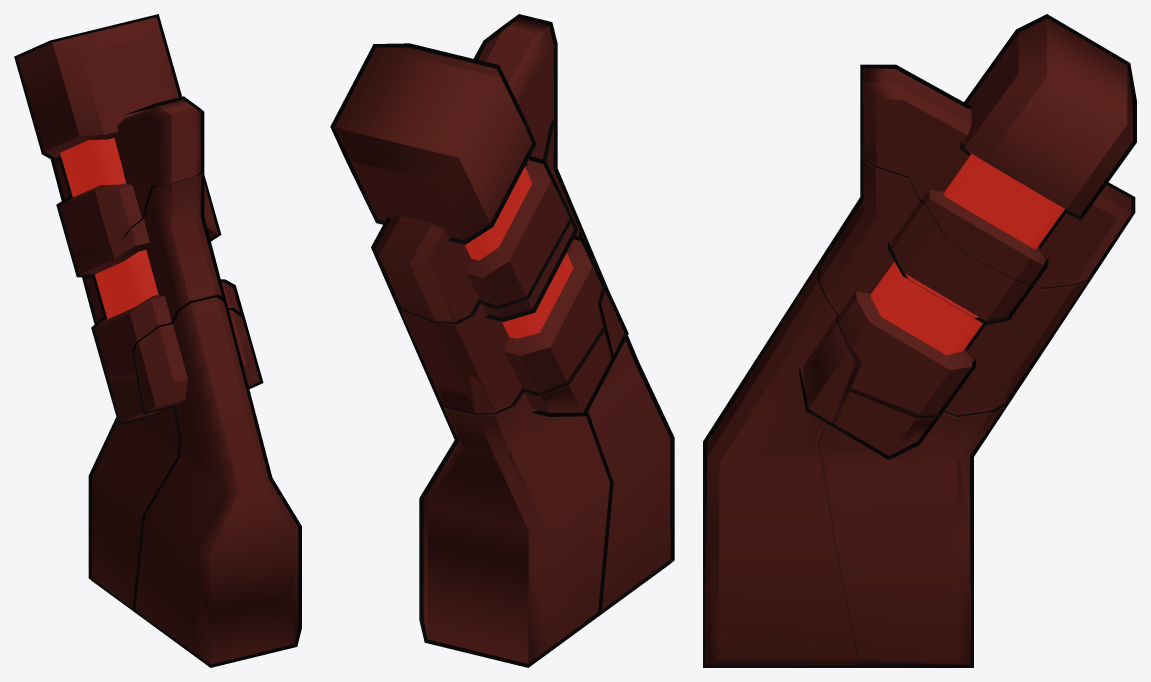
File: Obstacle3.fbx
The picture shows the model from 3 angles, left to right: view 1: azimuth 30°, elevation 25°; view 2: azimuth 150°, elevation 25°; view 3: azimuth 270°, elevation 25°; orthographic projection. The views are drawn at different scales.
Parts seen in each view (by area): view 1: Cube, Fragment.003, Fragment.001, Fragment.002, Fragment; view 2: Cube, Fragment.001, Fragment, Fragment.002, Fragment.003; view 3: Cube, Fragment.003, Fragment, Fragment.002, Fragment.001.
Boxes of the visible parts, x1,y1,x2,y2 form: Cube: [14, 14, 301, 667]; Fragment.003: [132, 294, 301, 667]; Fragment.001: [14, 14, 205, 257]; Fragment.002: [75, 173, 244, 379]; Fragment: [88, 379, 250, 606]; Cube: [330, 14, 674, 667]; Fragment.001: [331, 14, 572, 323]; Fragment: [419, 328, 614, 667]; Fragment.002: [401, 121, 606, 414]; Fragment.003: [582, 235, 674, 622]; Cube: [703, 14, 1136, 667]; Fragment.003: [703, 269, 860, 667]; Fragment: [818, 391, 1008, 667]; Fragment.002: [817, 159, 1090, 418]; Fragment.001: [860, 14, 1135, 288].
Size of the model in its own units: 200 by 918 by 602.
